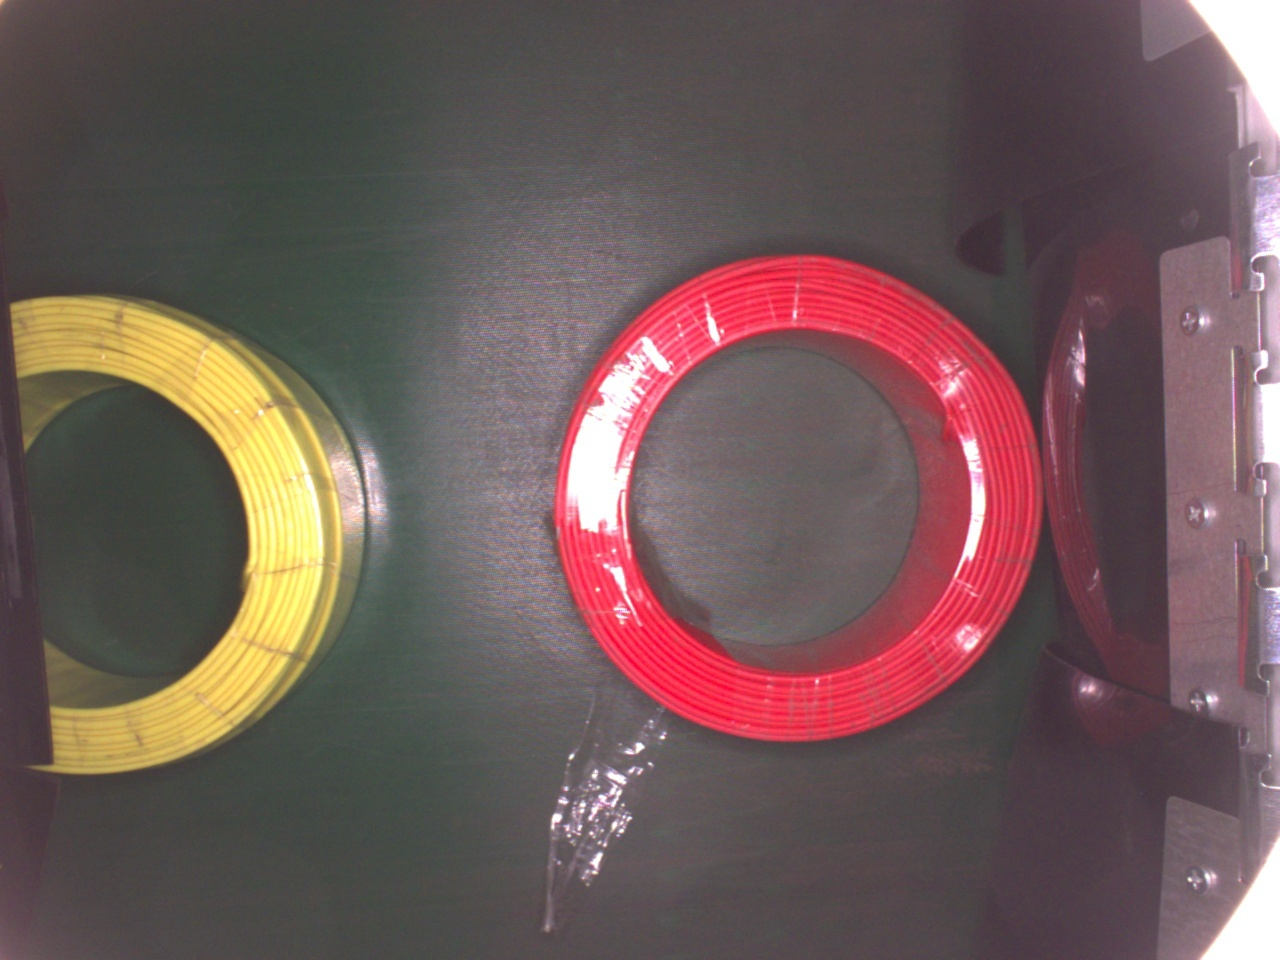red: (551, 249, 1046, 744)
yellow: (9, 286, 370, 785)
